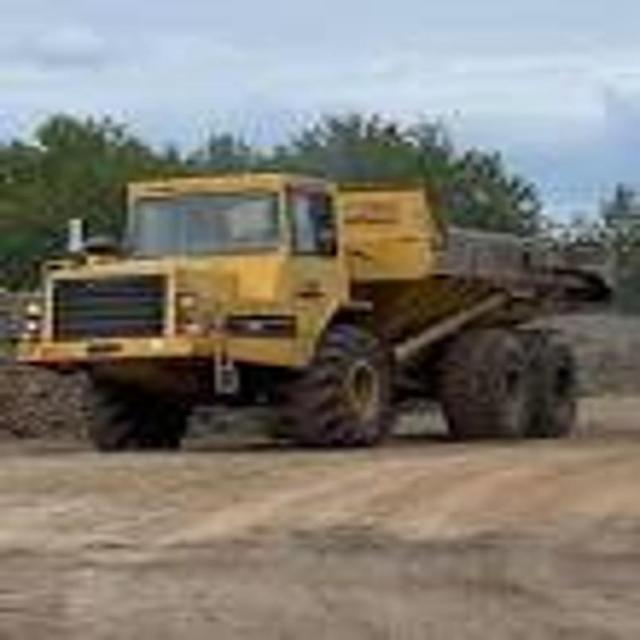dump_truck: (24, 153, 616, 453)
